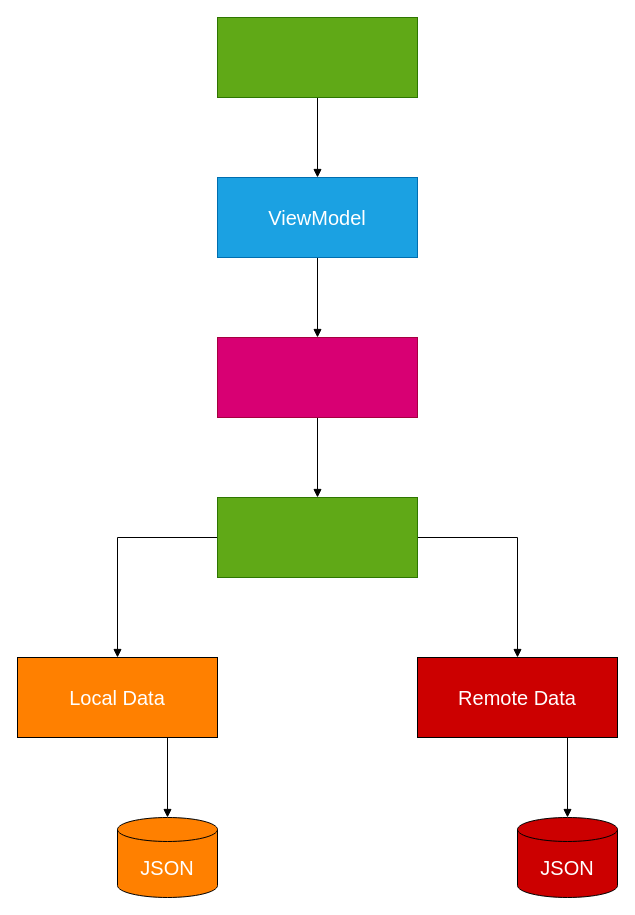
The diagram is 635 pixels wide and 915 high, and some of its shapes have lost their labels. Here are the shapes that lost their labels. From the top down, the box of each, then its label:
(216, 16, 418, 98): Activity/Fragment
(216, 336, 418, 418): Domain (UseCase Pattern)
(216, 496, 418, 578): Repository
